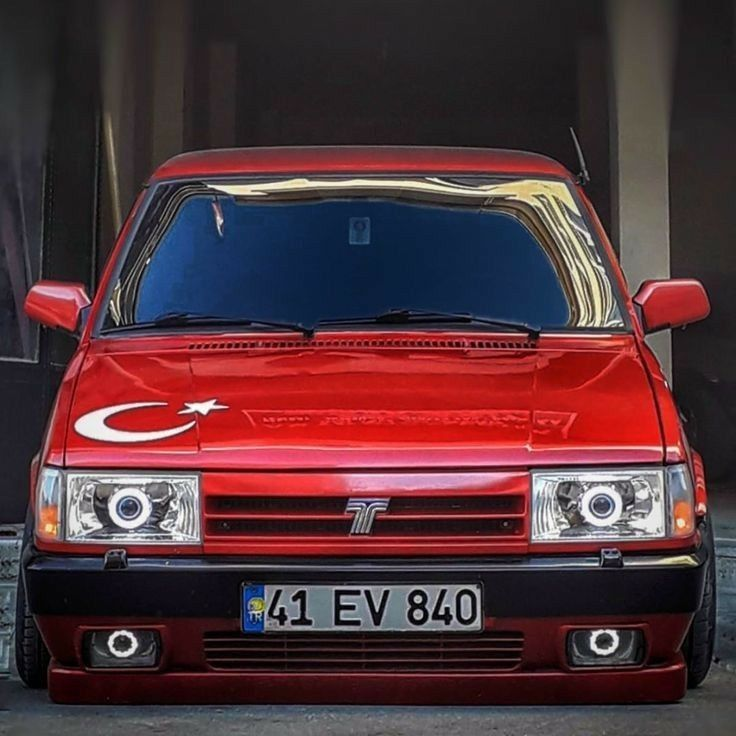plate: (243, 586, 482, 635)
